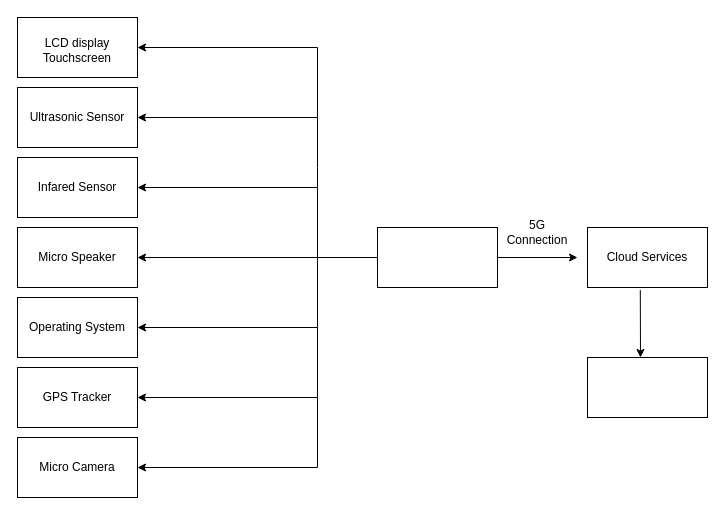
The diagram is 725 pixels wide and 515 high, and some of its shapes have lost their labels. The shapes that lost their labels are listed below. From the top down, each one's box as (x1, y1, x2, y2) in pixels, then its label:
(376, 226, 498, 288): Dbot
(586, 356, 708, 418): Users
